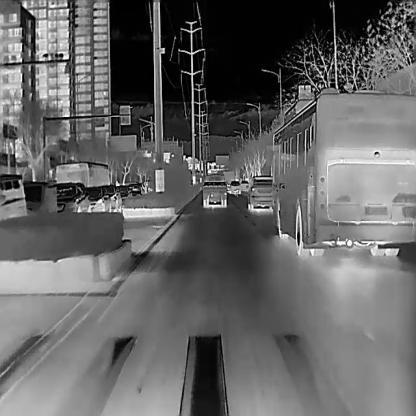car: (266, 86, 416, 256), (54, 160, 108, 188), (21, 180, 56, 216), (0, 172, 26, 220), (56, 180, 90, 213), (247, 175, 272, 210), (202, 173, 226, 206), (85, 187, 111, 213), (101, 184, 121, 213), (127, 183, 144, 196), (117, 184, 131, 198), (229, 181, 240, 195), (240, 180, 248, 189)
